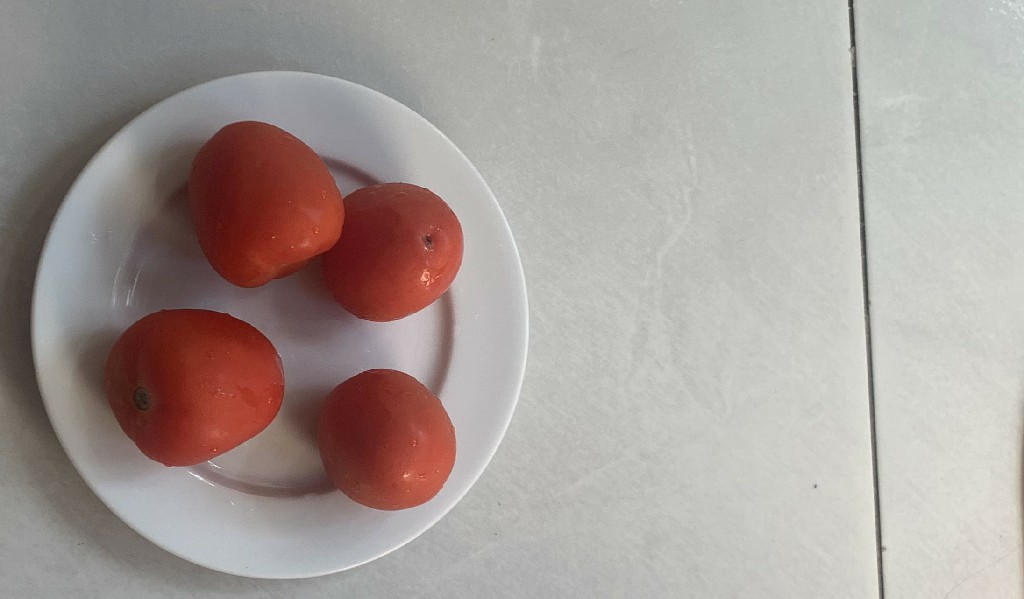OK: (92, 301, 290, 467), (180, 115, 347, 293), (313, 361, 461, 518), (329, 177, 470, 325)
